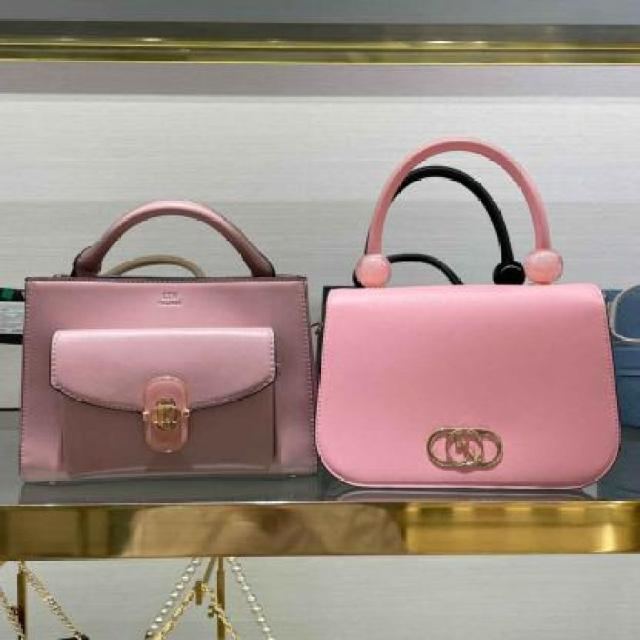Bag: (304, 110, 636, 496), (0, 184, 331, 534)
